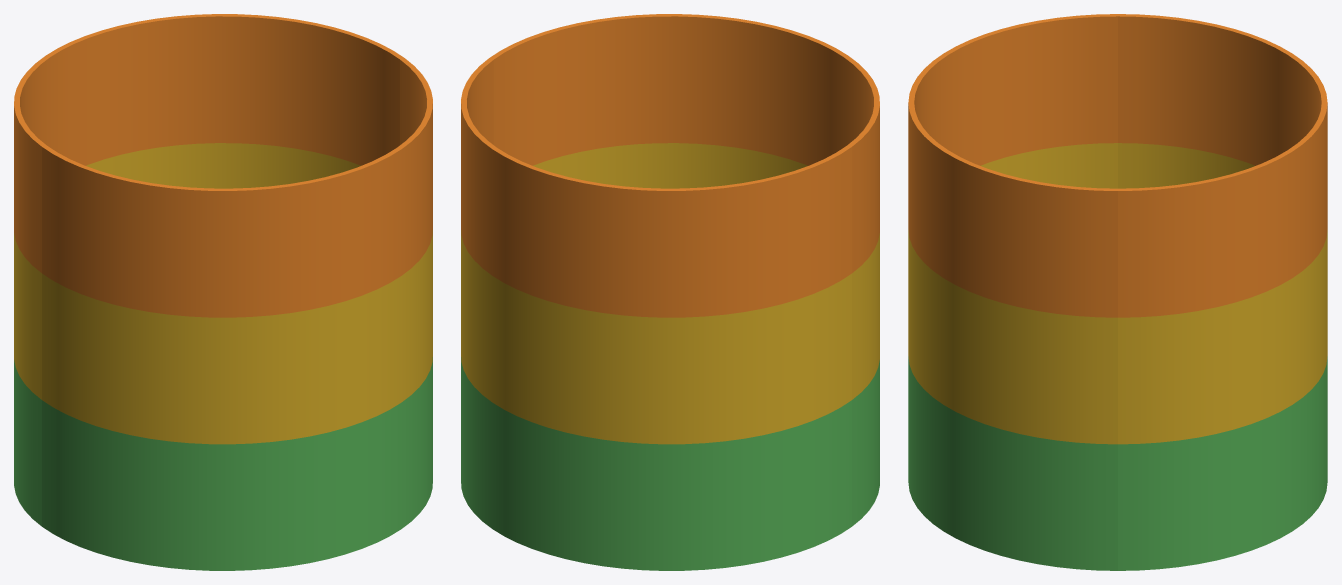
File: economizer_temperature.glb
3 views of the same model, side by side, from view 1: azimuth 30°, elevation 25°; view 2: azimuth 150°, elevation 25°; view 3: azimuth 270°, elevation 25° (orthographic).
Visible parts, largest first — view 1: temperature__front, temperature__back; view 2: temperature__back, temperature__front; view 3: temperature__back, temperature__front.
Boxes of the visible parts, <box> form: temperature__front: <box>42,58,432,570</box>; temperature__back: <box>14,14,404,526</box>; temperature__back: <box>461,58,851,570</box>; temperature__front: <box>489,14,879,526</box>; temperature__back: <box>1118,14,1327,570</box>; temperature__front: <box>908,14,1117,570</box>.
Bounding box in the file's own units: 1.8 × 1.8 × 1.8.
